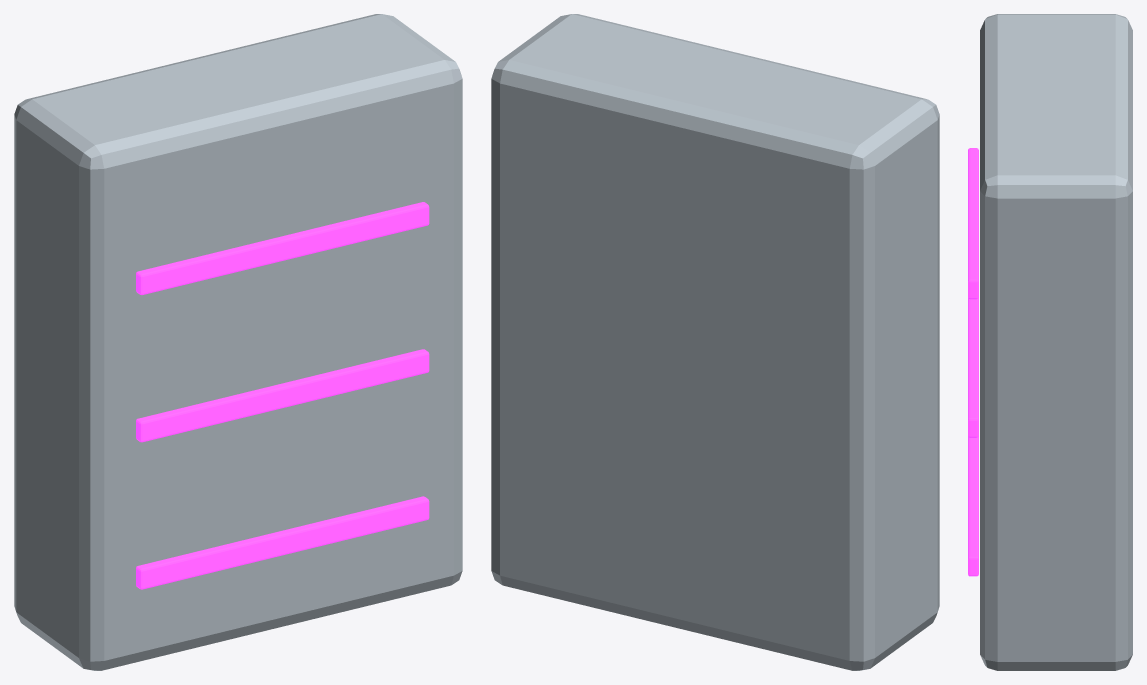
The model's file is Core-Wall.glb.
3 renders of one model, left to right at view 1: azimuth 30°, elevation 25°; view 2: azimuth 150°, elevation 25°; view 3: azimuth 270°, elevation 25°, orthographic. The views are drawn at different scales.
Visible parts, largest first — view 1: HighTech_Wall.001, Wall_Energy_Line.003, Wall_Energy_Line.004, Wall_Energy_Line.005; view 2: HighTech_Wall.001; view 3: HighTech_Wall.001, Wall_Energy_Line.005, Wall_Energy_Line.003, Wall_Energy_Line.004.
Part boxes in pixels (x1=…): HighTech_Wall.001: x1=14, y1=14, x2=462, y2=670; Wall_Energy_Line.003: x1=136, y1=496, x2=429, y2=589; Wall_Energy_Line.004: x1=136, y1=349, x2=429, y2=442; Wall_Energy_Line.005: x1=136, y1=202, x2=429, y2=294; HighTech_Wall.001: x1=491, y1=14, x2=939, y2=670; HighTech_Wall.001: x1=980, y1=14, x2=1132, y2=670; Wall_Energy_Line.005: x1=968, y1=148, x2=978, y2=299; Wall_Energy_Line.003: x1=968, y1=436, x2=978, y2=576; Wall_Energy_Line.004: x1=968, y1=297, x2=978, y2=437.
Bounding box in the file's own units: 1.9 × 2.5 × 0.755.
